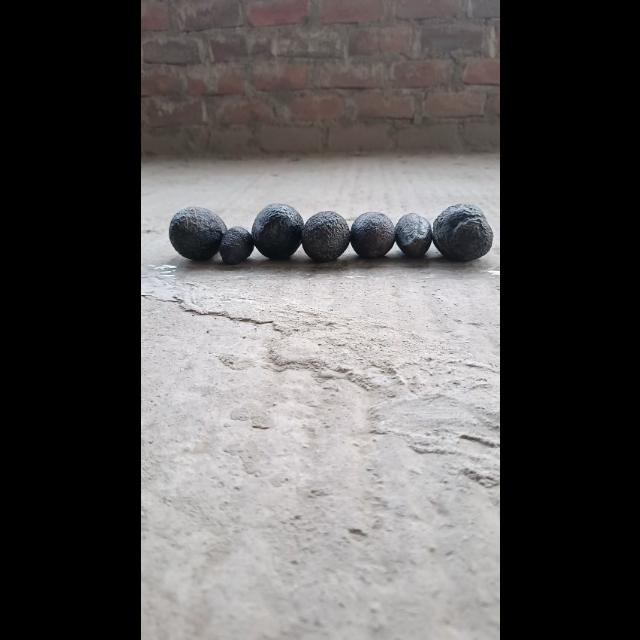Primera: (432, 203, 492, 260), (166, 206, 224, 260), (250, 203, 302, 259), (300, 210, 350, 262)
Segunda: (348, 212, 396, 258), (392, 212, 433, 258)
Tercera: (216, 226, 252, 264)
